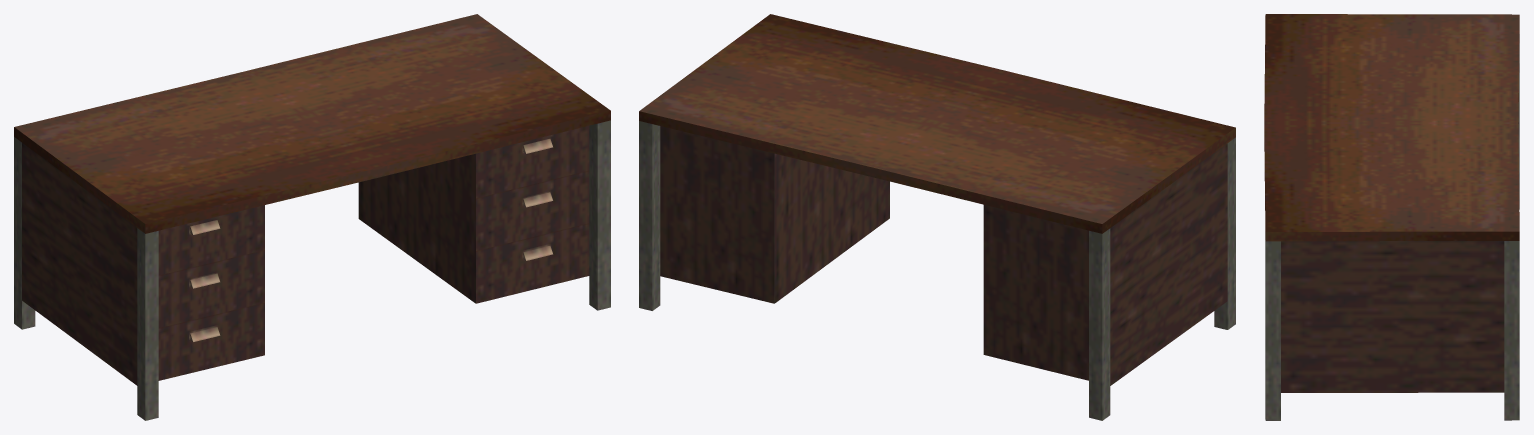
File: desk2.obj
3 renders of one model, left to right at view 1: azimuth 30°, elevation 25°; view 2: azimuth 150°, elevation 25°; view 3: azimuth 270°, elevation 25°, orthographic. The views are drawn at different scales.
Visible parts, largest first — view 1: desk2; view 2: desk2; view 3: desk2.
Part boxes in pixels (<box>): desk2: <box>14,14,610,420</box>; desk2: <box>639,14,1235,420</box>; desk2: <box>1264,14,1519,420</box>.
Size of the model in its own units: 2.21 by 0.8911 by 1.09.
